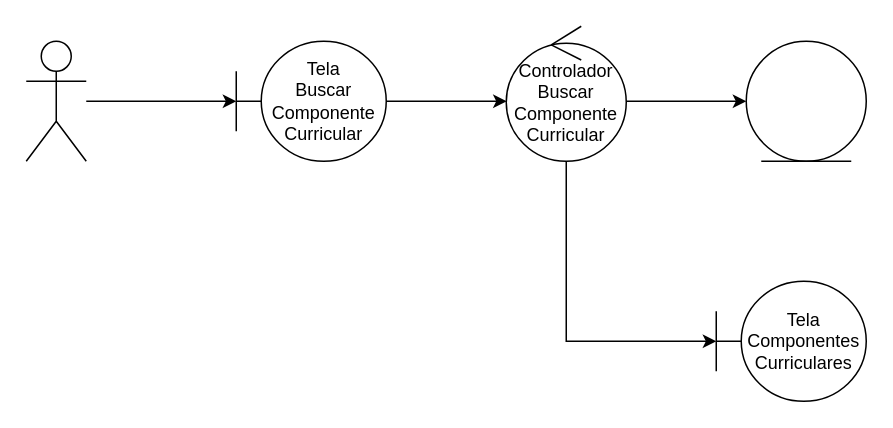
Image size: 893x428. Some labels were removed from this diagram. Each missing label, with the centre of its shape:
"Aluno" belongs at point 55,100.
"BD Componentes Curriculares" belongs at point 805,100.
